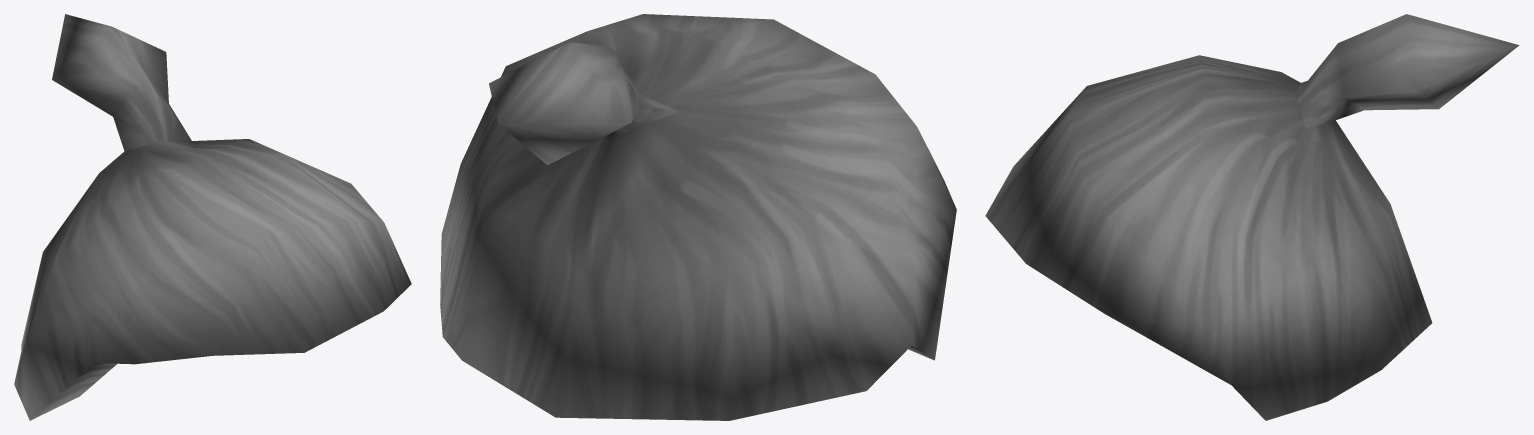
Rendered from NPC_Hair_004.fbx.
3 views of the same model, side by side, from view 1: azimuth 30°, elevation 25°; view 2: azimuth 150°, elevation 25°; view 3: azimuth 270°, elevation 25° (orthographic). The views are drawn at different scales.
Visible parts, largest first — view 1: NPC_Hair_004; view 2: NPC_Hair_004; view 3: NPC_Hair_004.
Part boxes in pixels (<box>): NPC_Hair_004: <box>14,14,411,420</box>; NPC_Hair_004: <box>440,14,956,420</box>; NPC_Hair_004: <box>985,14,1519,420</box>.
Bounding box in the file's own units: 32.09 × 24.63 × 37.43.
